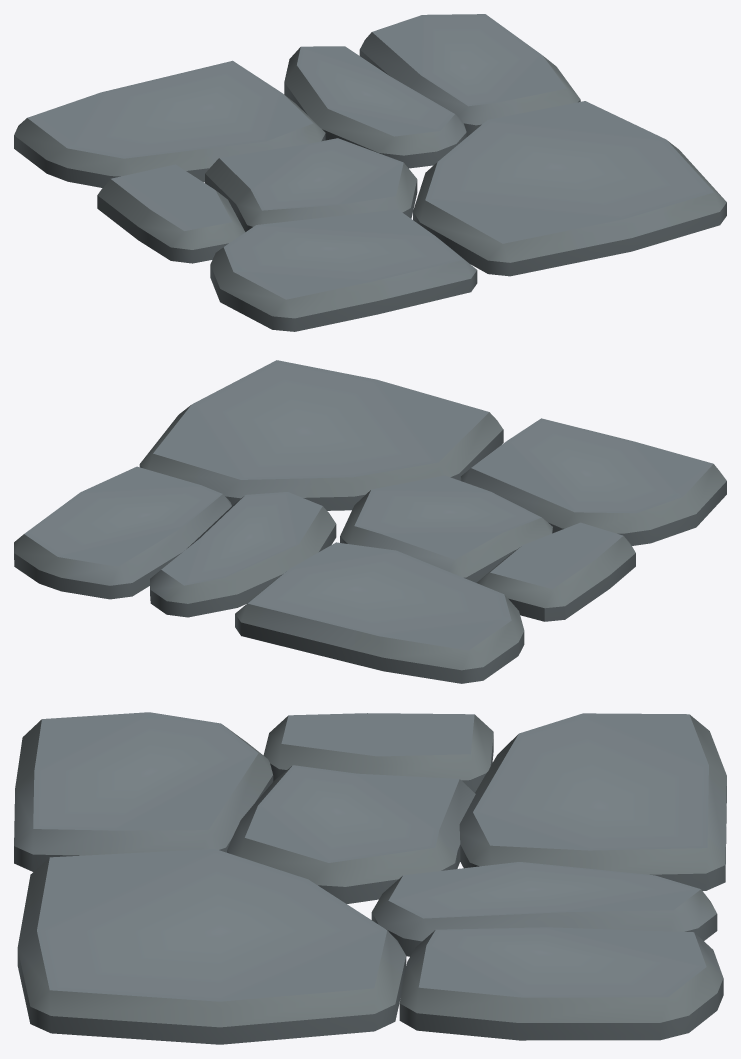
Rendered from path-b.glb.
3 renders of one model, top to bottom at view 1: azimuth 30°, elevation 25°; view 2: azimuth 150°, elevation 25°; view 3: azimuth 270°, elevation 25°, orthographic. The views are drawn at different scales.
Parts seen in each view (by area): view 1: path_B; view 2: path_B; view 3: path_B.
Part boxes in pixels (x1,y1,x2,y2): path_B: [14, 14, 726, 331]; path_B: [14, 360, 726, 683]; path_B: [14, 712, 726, 1044].
Size of the model in its own units: 1.89 by 0.0999 by 1.86.
Materials: 1 (1 with a texture image).
